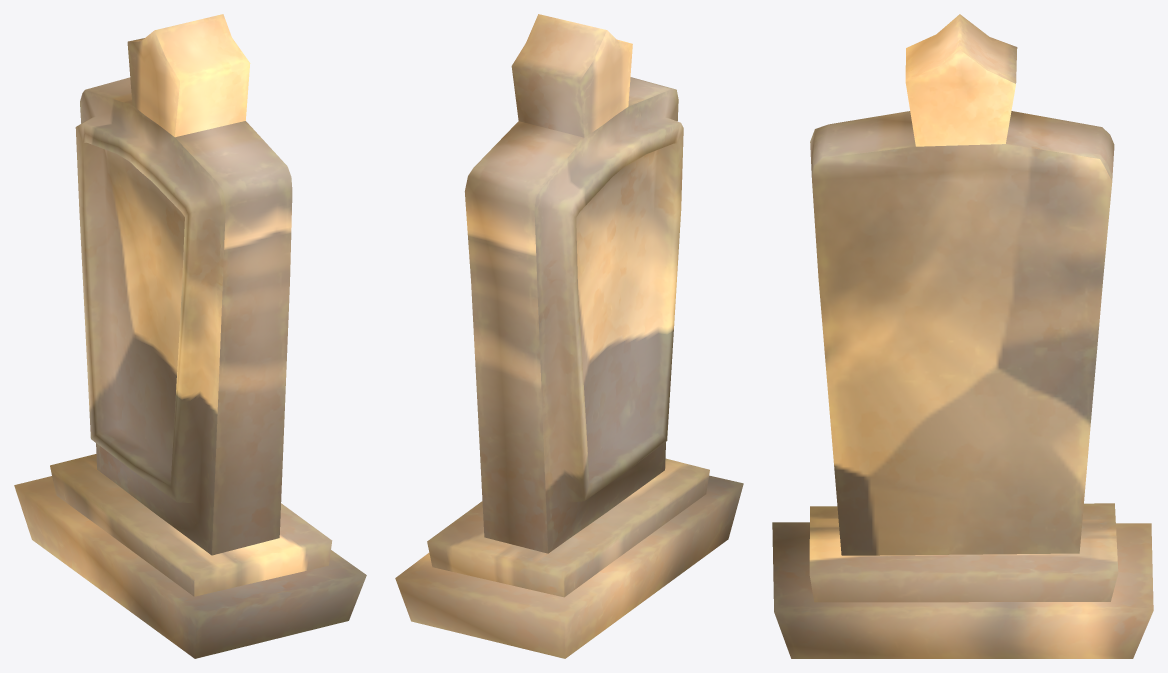
The model's file is SM_Stylized_Tombstone_C.fbx.
3 renders of one model, left to right at view 1: azimuth 30°, elevation 25°; view 2: azimuth 150°, elevation 25°; view 3: azimuth 270°, elevation 25°, orthographic. The views are drawn at different scales.
Visible parts, largest first — view 1: SM_Stylized_Tombstone_C_LOD0; view 2: SM_Stylized_Tombstone_C_LOD0; view 3: SM_Stylized_Tombstone_C_LOD0.
Part boxes in pixels (box(x1,y1,x2,y2)): SM_Stylized_Tombstone_C_LOD0: box(14, 14, 366, 658); SM_Stylized_Tombstone_C_LOD0: box(395, 14, 743, 658); SM_Stylized_Tombstone_C_LOD0: box(772, 14, 1153, 658).
Bounding box in the file's own units: 46 × 83.87 × 142.
